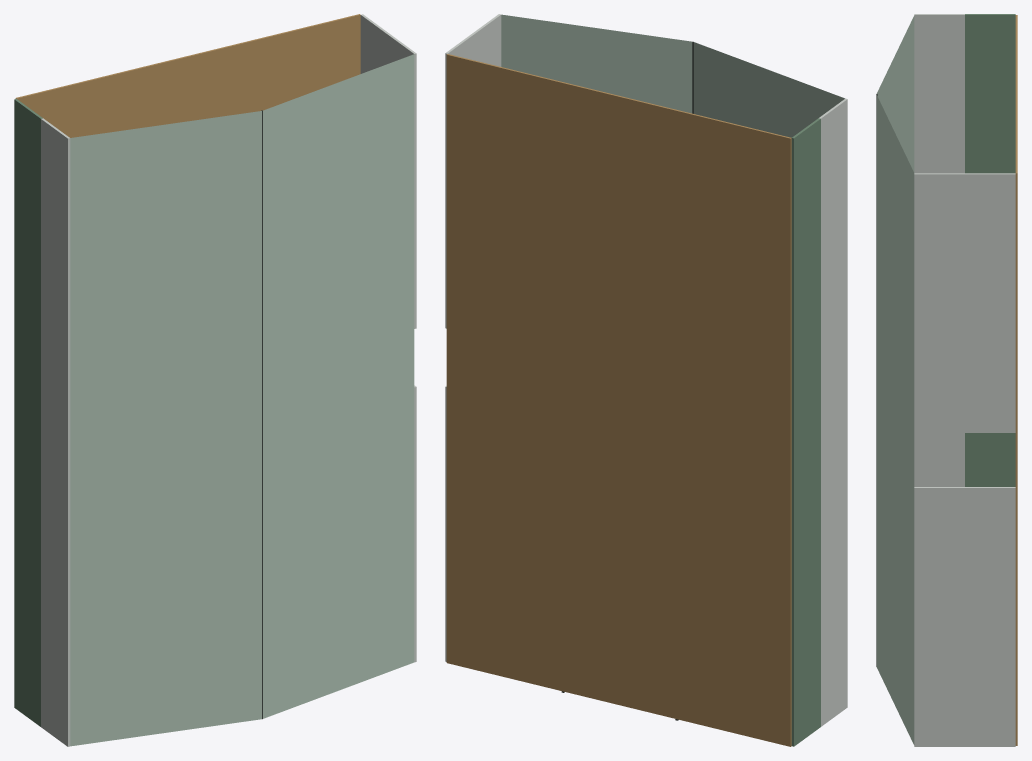
The model's file is rainforest-hall-white-v1.obj.
The picture shows the model from 3 angles, left to right: view 1: azimuth 30°, elevation 25°; view 2: azimuth 150°, elevation 25°; view 3: azimuth 270°, elevation 25°; orthographic projection. The views are drawn at different scales.
Visible parts, largest first — view 1: roof_left, roof_right, sand_floor, left_upper_screen, left_lower_operable_placeholder, right_wall_back, right_wall_front; view 2: sand_floor, left_lower_operable_placeholder, left_upper_screen, roof_right, roof_left, right_wall_back; view 3: right_wall_front, right_wall_back, roof_right, left_lower_operable_placeholder, left_upper_screen, roof_left, sand_floor, ridge.
Part boxes in pixels (x1,y1,x2,y2): roof_left: [70, 111, 261, 746]; roof_right: [263, 54, 414, 718]; sand_floor: [15, 14, 360, 137]; left_upper_screen: [41, 118, 70, 746]; left_lower_operable_placeholder: [14, 99, 42, 726]; right_wall_back: [360, 14, 416, 328]; right_wall_front: [414, 385, 416, 662]; sand_floor: [446, 54, 791, 746]; left_lower_operable_placeholder: [791, 118, 820, 746]; left_upper_screen: [819, 98, 847, 726]; roof_right: [501, 14, 692, 113]; roof_left: [694, 42, 844, 137]; right_wall_back: [445, 14, 501, 328]; right_wall_front: [914, 487, 1015, 746]; right_wall_back: [914, 173, 1015, 432]; roof_right: [876, 95, 914, 744]; left_lower_operable_placeholder: [965, 14, 1015, 486]; left_upper_screen: [914, 14, 964, 486]; roof_left: [876, 16, 914, 172]; sand_floor: [1015, 15, 1017, 745]; ridge: [876, 94, 877, 666].
Size of the model in its own units: 15 by 25.1 by 5.58.
